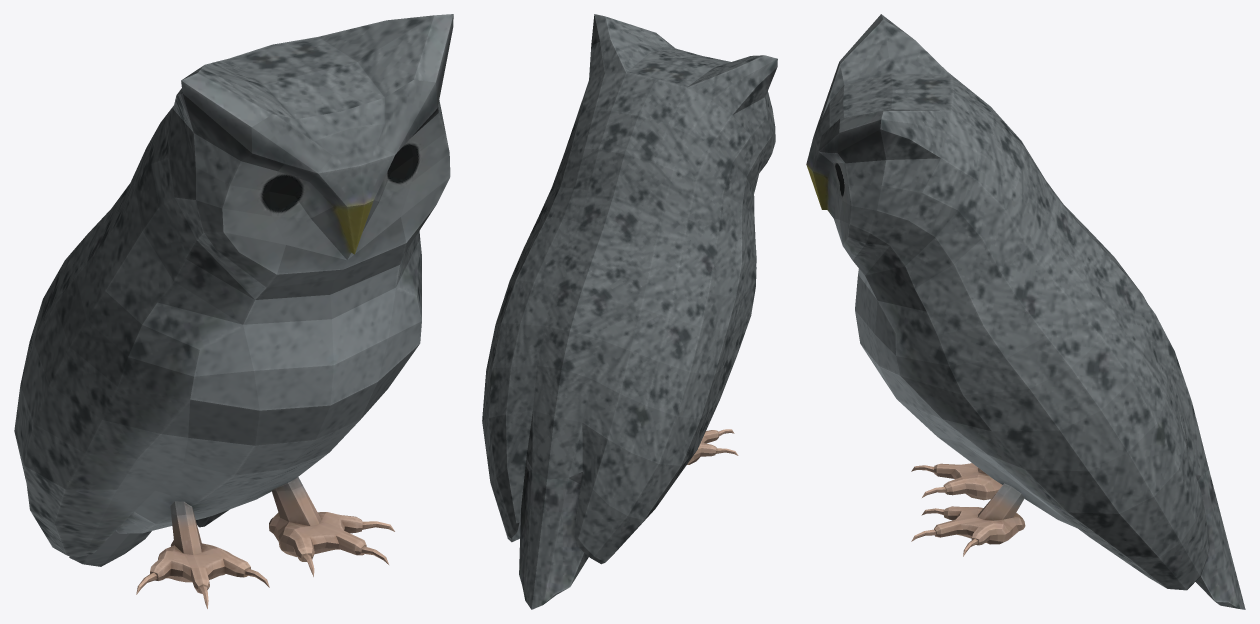
File: Owl.glb
The picture shows the model from 3 angles, left to right: view 1: azimuth 30°, elevation 25°; view 2: azimuth 150°, elevation 25°; view 3: azimuth 270°, elevation 25°; orthographic projection. The views are drawn at different scales.
Visible parts, largest first — view 1: ScreechOwl_mesh; view 2: ScreechOwl_mesh; view 3: ScreechOwl_mesh.
Part boxes in pixels (<box>): ScreechOwl_mesh: <box>14,14,453,608</box>; ScreechOwl_mesh: <box>482,14,777,609</box>; ScreechOwl_mesh: <box>806,14,1245,609</box>.
Size of the model in its own units: 2.99 by 6.31 by 4.62.
1 material, 1 textured.
